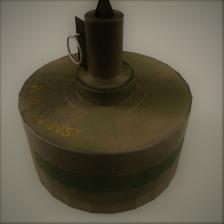M21: (18, 0, 186, 216)
